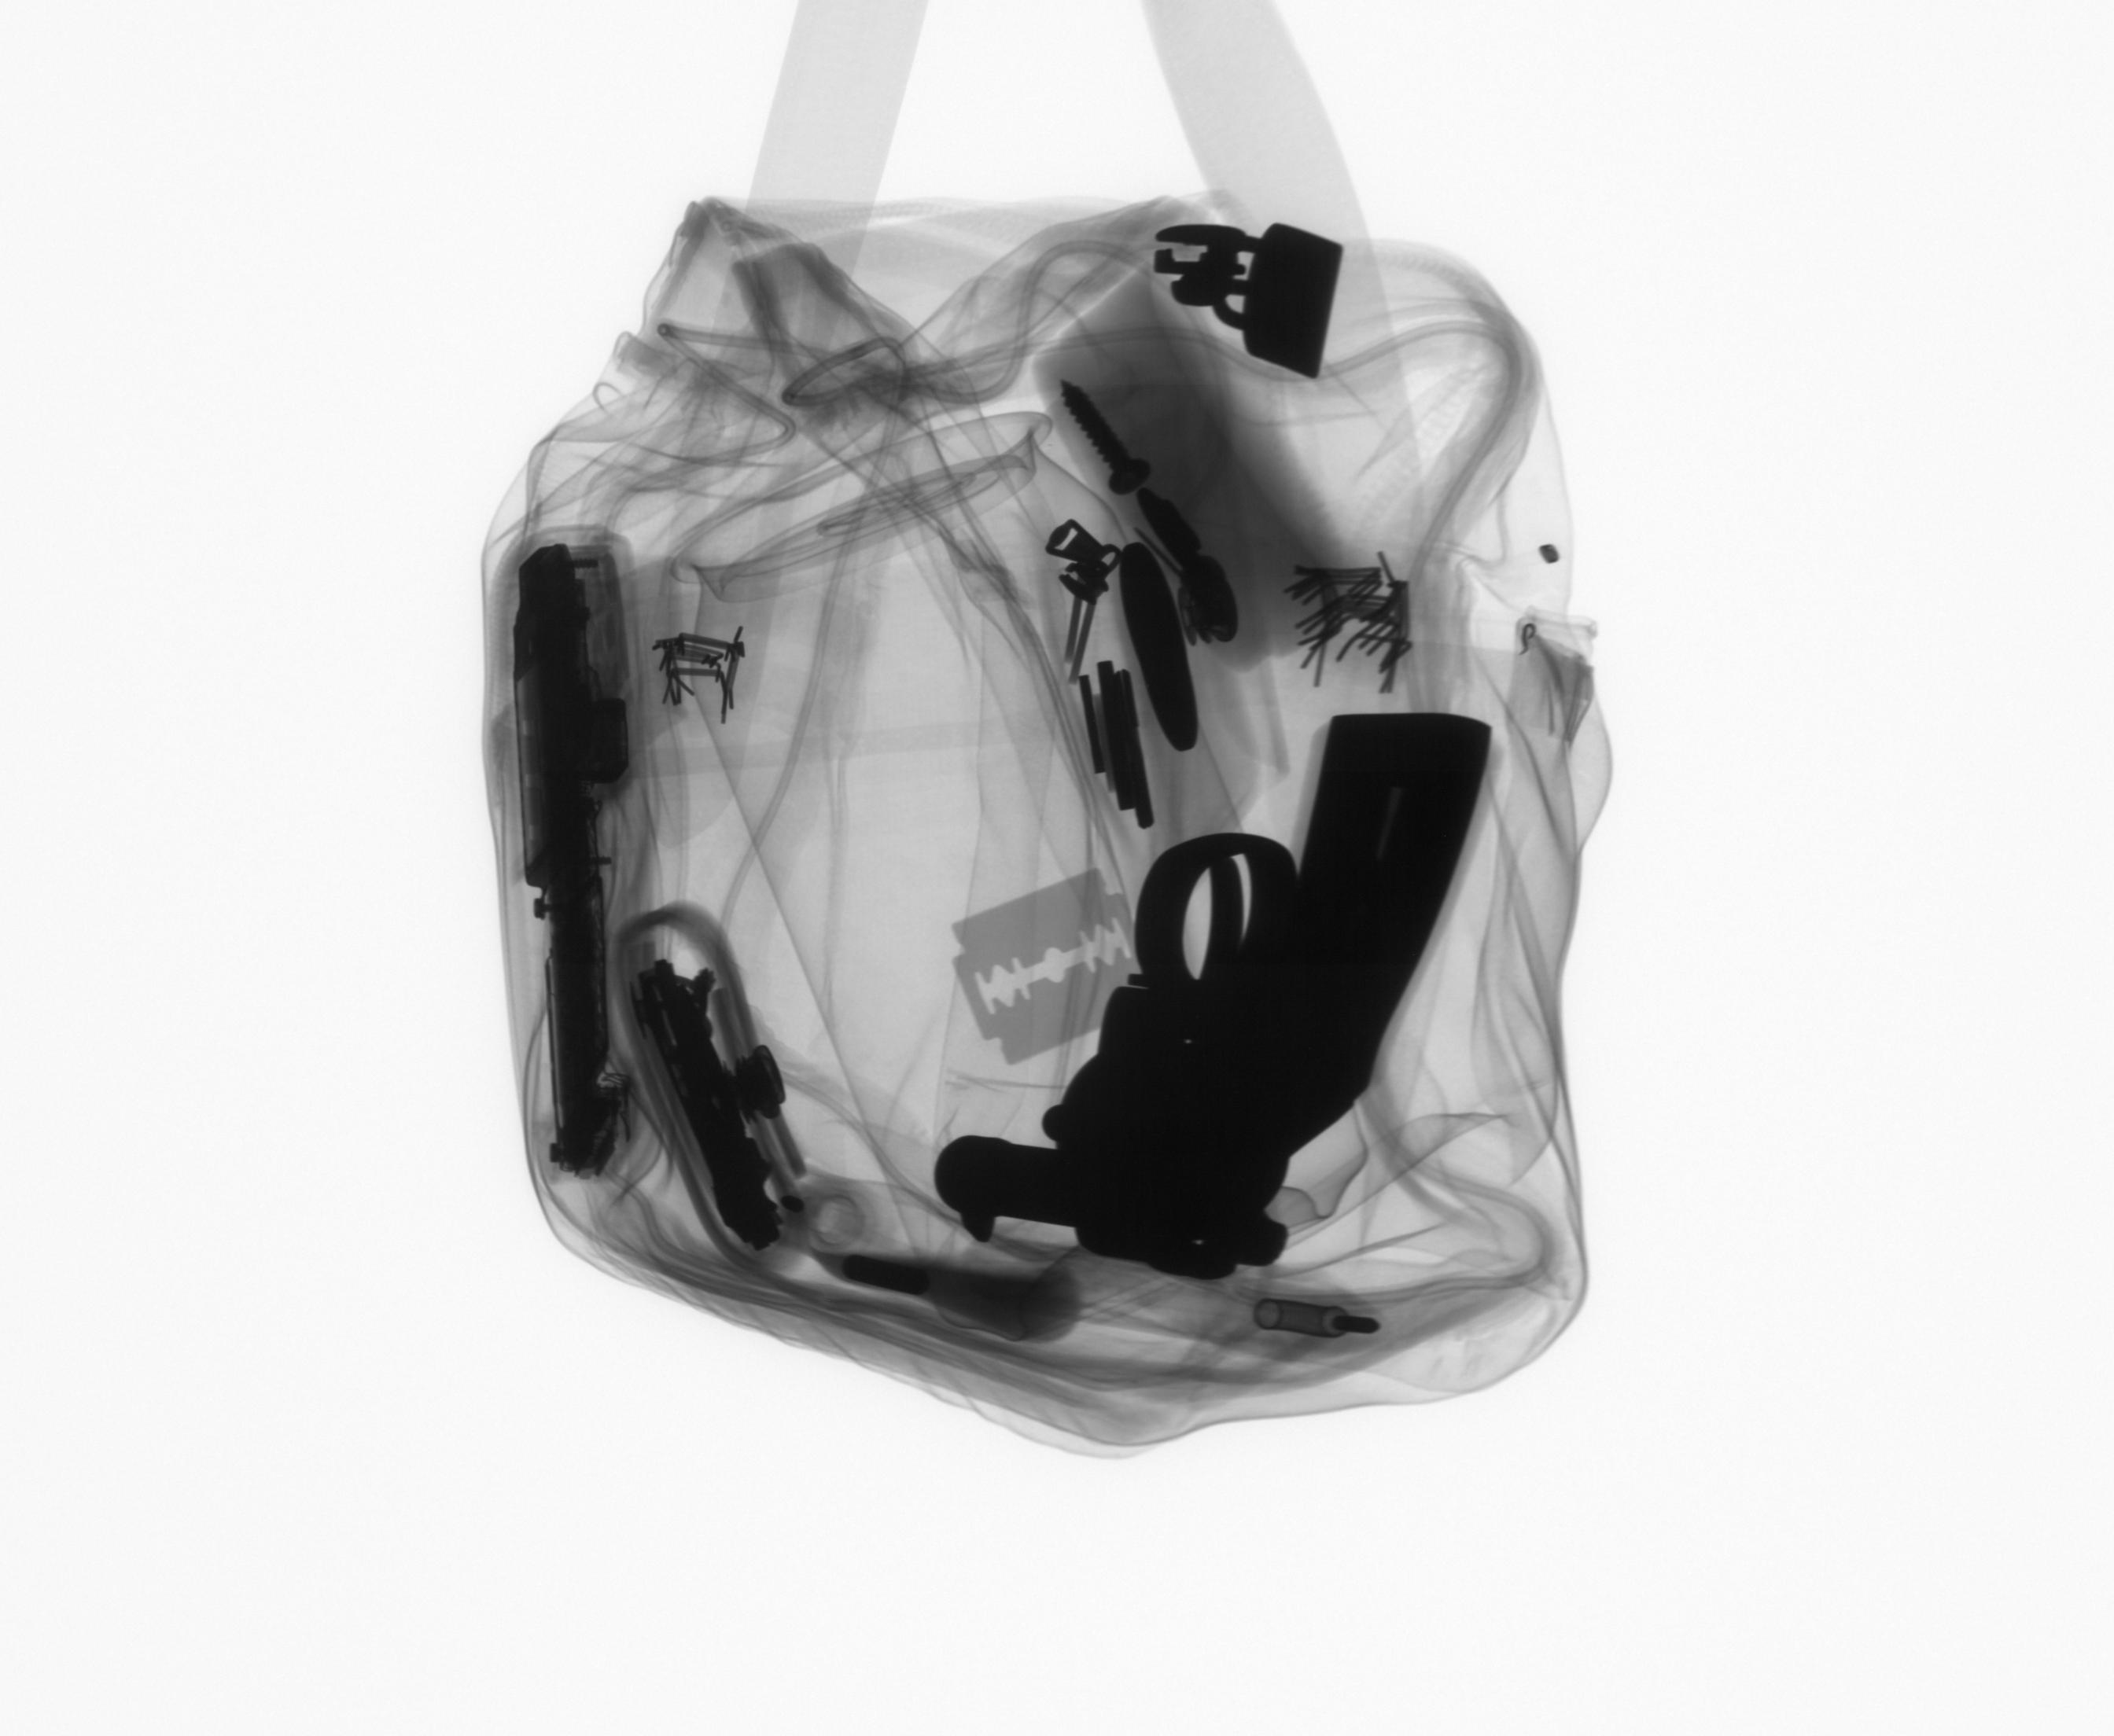Handgun: (924, 702, 1512, 1297)
RazorBlade: (943, 860, 1164, 1071)
